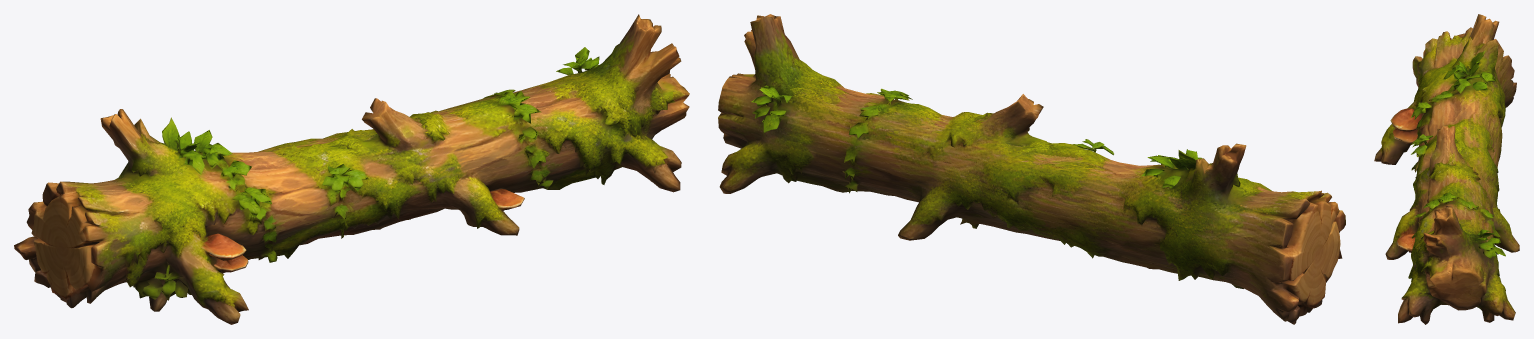
The model's file is fallen log 3d model.glb.
3 views of the same model, side by side, from view 1: azimuth 30°, elevation 25°; view 2: azimuth 150°, elevation 25°; view 3: azimuth 270°, elevation 25° (orthographic). The views are drawn at different scales.
Parts seen in each view (by area): view 1: tripo_node_6b4e949f-e316-4a2d-9b8e-4bd14f269ae6; view 2: tripo_node_6b4e949f-e316-4a2d-9b8e-4bd14f269ae6; view 3: tripo_node_6b4e949f-e316-4a2d-9b8e-4bd14f269ae6.
Part boxes in pixels (x1,y1,x2,y2): tripo_node_6b4e949f-e316-4a2d-9b8e-4bd14f269ae6: (14,14,689,324); tripo_node_6b4e949f-e316-4a2d-9b8e-4bd14f269ae6: (718,14,1345,324); tripo_node_6b4e949f-e316-4a2d-9b8e-4bd14f269ae6: (1374,14,1519,324).
Bounding box in the file's own units: 1 × 0.2646 × 0.2691.
1 material, 1 textured.
